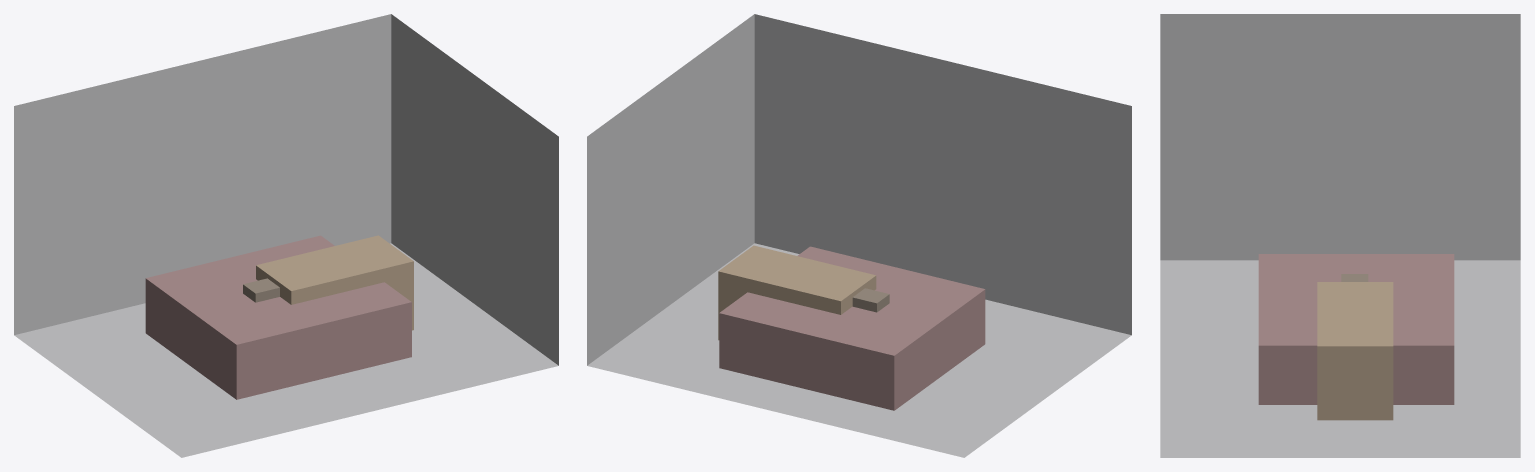
Rendered from current_layout.glb.
3 renders of one model, left to right at view 1: azimuth 30°, elevation 25°; view 2: azimuth 150°, elevation 25°; view 3: azimuth 270°, elevation 25°, orthographic. The views are drawn at different scales.
Visible parts, largest first — view 1: room, bed, desk, suitcase; view 2: room, bed, desk, suitcase; view 3: room, bed, desk.
Part boxes in pixels (x1,y1,x2,y2): room: [14, 14, 558, 457]; bed: [145, 235, 411, 399]; desk: [256, 235, 413, 330]; suitcase: [243, 278, 279, 302]; room: [587, 14, 1131, 457]; bed: [719, 246, 985, 410]; desk: [718, 245, 876, 340]; suitcase: [852, 288, 889, 312]; room: [1160, 14, 1520, 457]; bed: [1258, 254, 1454, 404]; desk: [1317, 282, 1393, 420].
Bounding box in the file's own units: 4.31 × 2.5 × 3.31.
